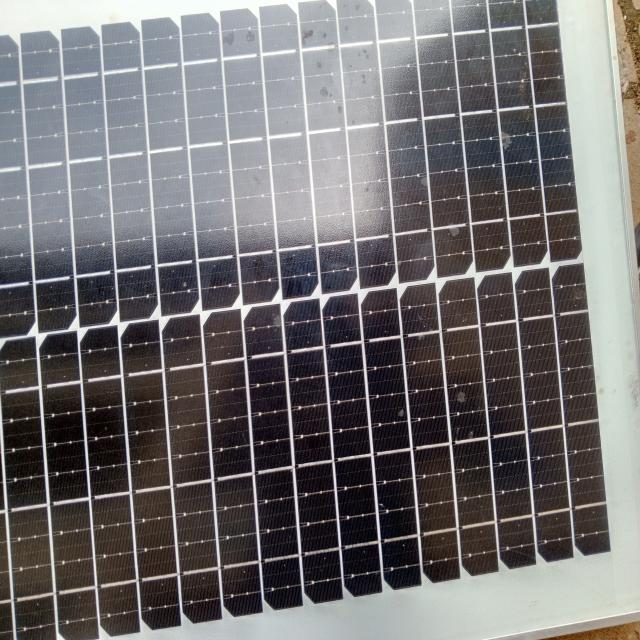Clean: (5, 9, 612, 616)
